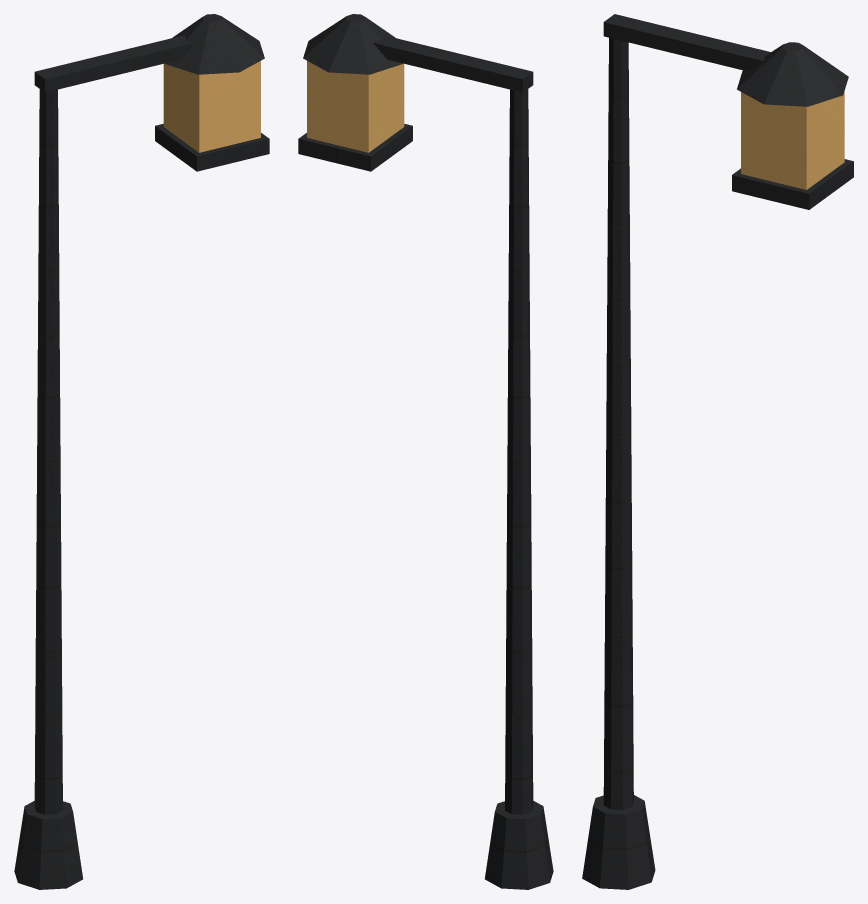
Rendered from street_lamp_01.glb.
3 renders of one model, left to right at view 1: azimuth 30°, elevation 25°; view 2: azimuth 150°, elevation 25°; view 3: azimuth 330°, elevation 25°, orthographic. The views are drawn at different scales.
Parts seen in each view (by area): view 1: street_lamp_01; view 2: street_lamp_01; view 3: street_lamp_01.
Part boxes in pixels (x1,y1,x2,y2): street_lamp_01: (14,14,269,889); street_lamp_01: (298,14,553,889); street_lamp_01: (582,14,853,889).
Bounding box in the file's own units: 1.33 × 4.3 × 0.52.
2 materials, 2 textured.
